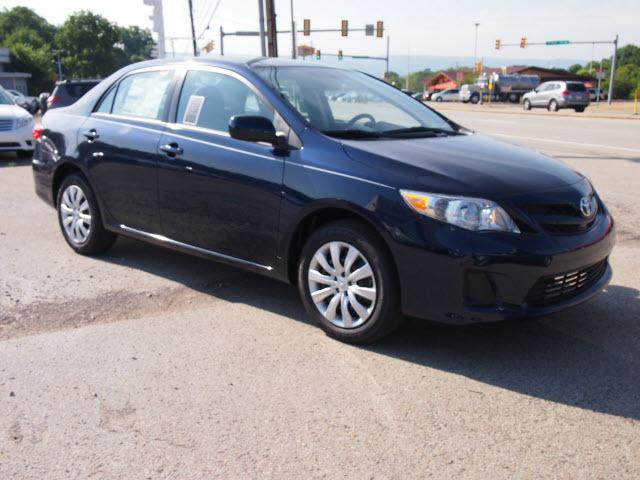Sedan: (30, 53, 616, 345)
